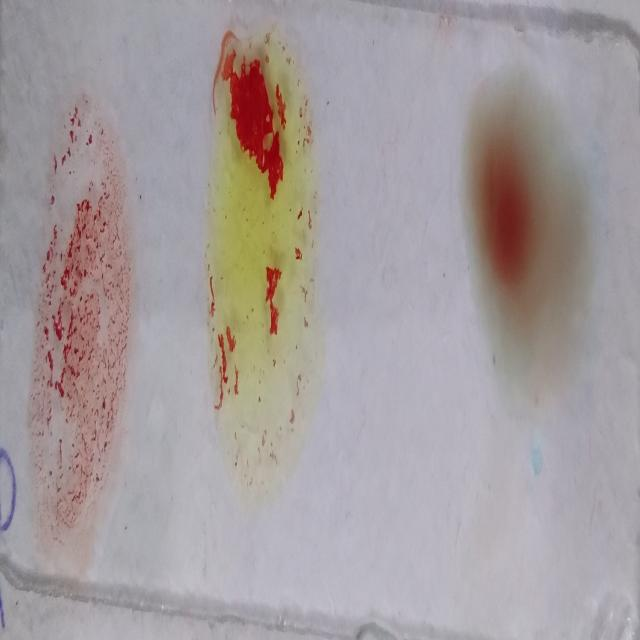B: (206, 34, 311, 480)
D: (35, 93, 127, 539)
